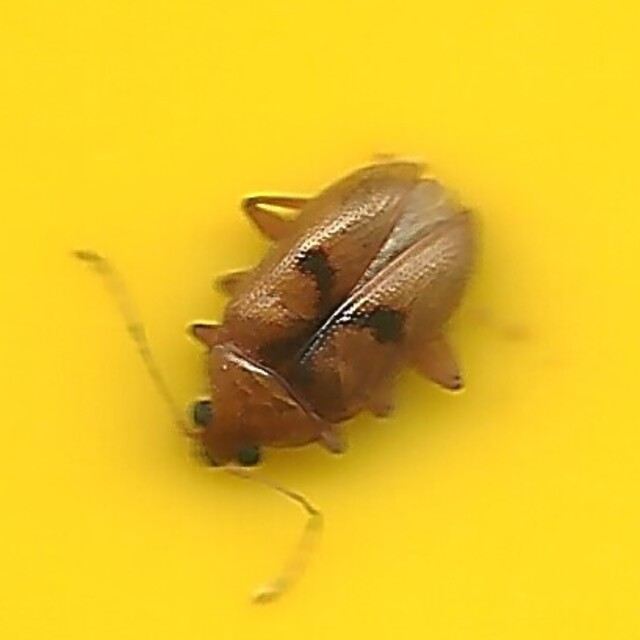Coleoptera: (156, 153, 484, 487)
